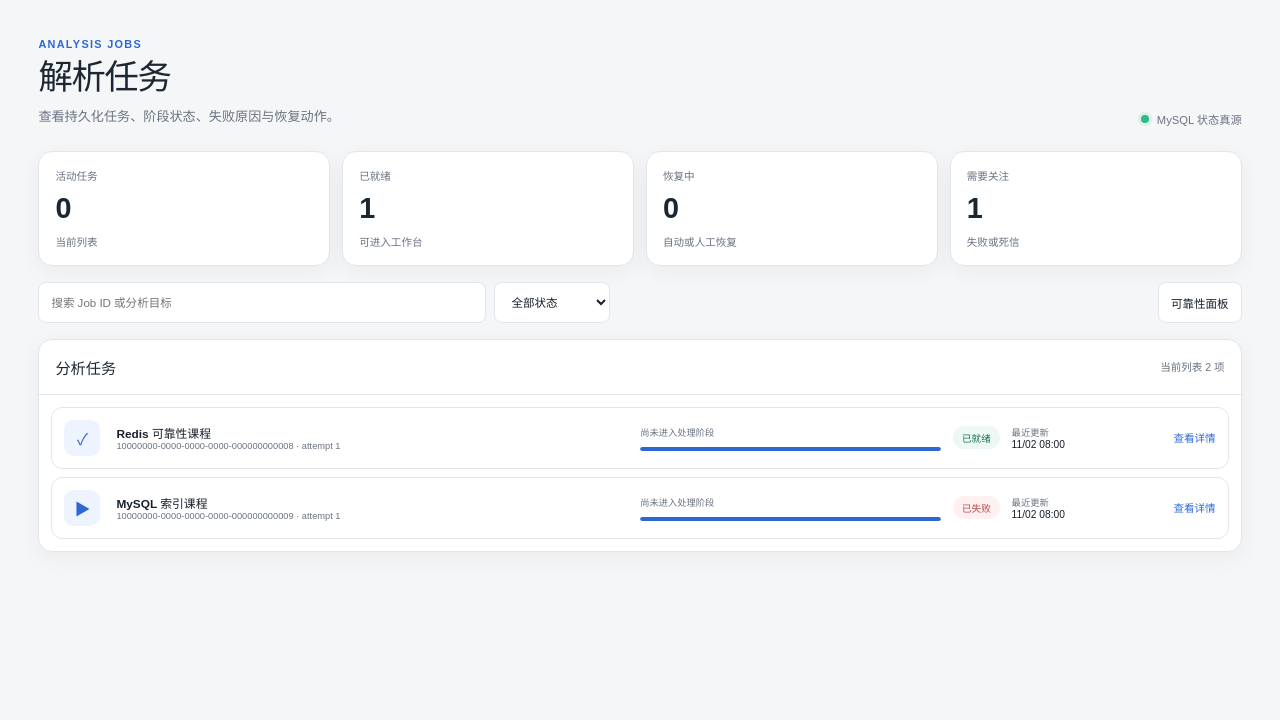
Test: AnalysisJobsPage › presents jobs as full-width filtered rows instead of the old rail layout
Check: the list with test id "job-table" is shown, box [39, 395, 1241, 551]
In the search field with test id "job-search": {"x": 262, "y": 302} [38, 282, 486, 323], type "Redis"
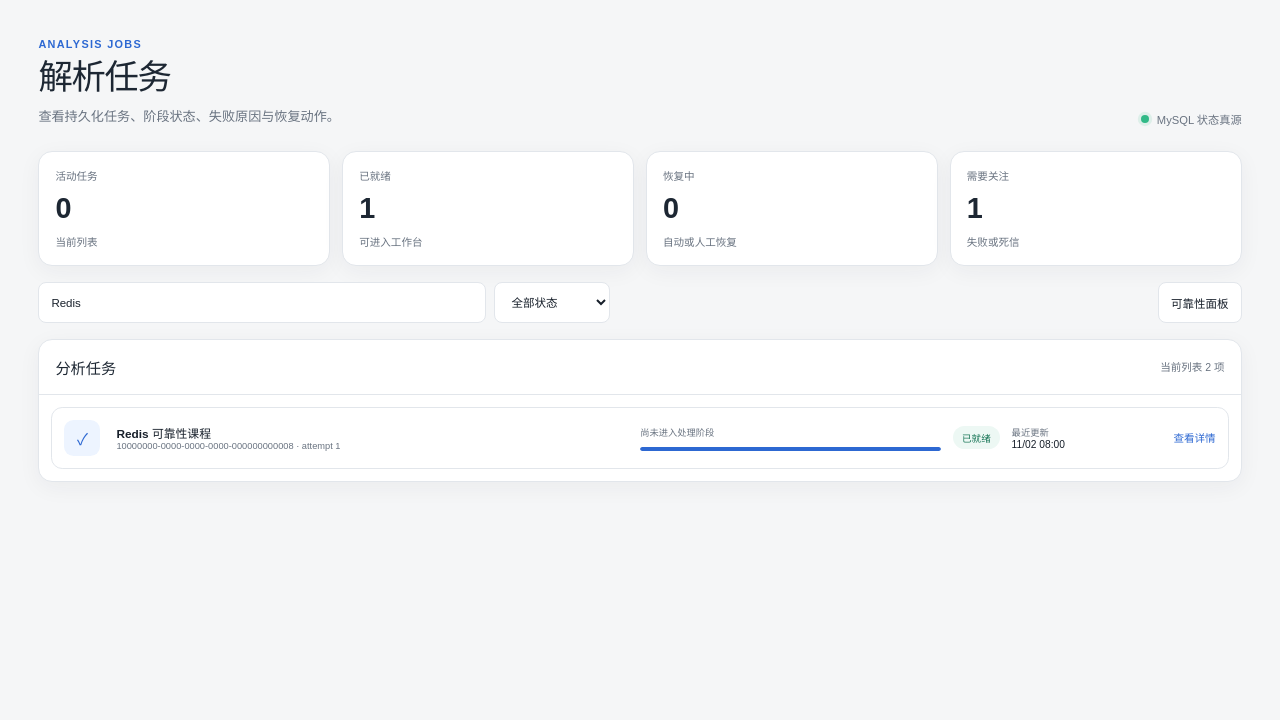
Check: the text "Redis 可靠性课程" is shown, box [116, 427, 211, 441]
Check: the text "MySQL 索引课程" is gone
